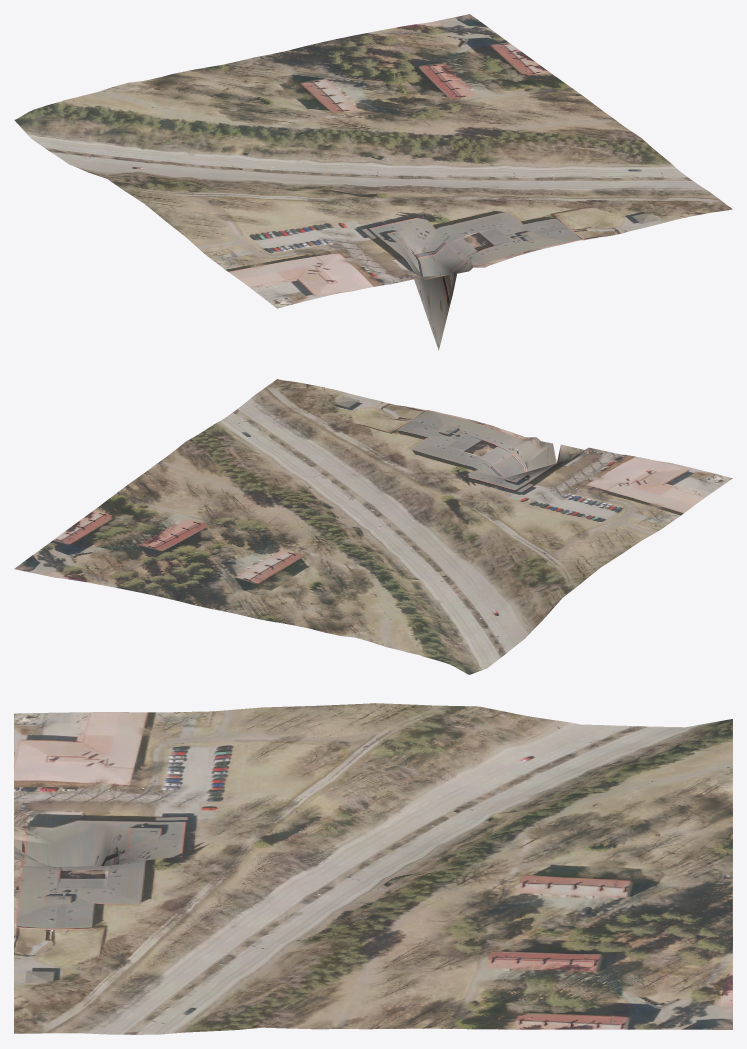
Rendered from CM_Terrain_24489844_6821022.fbx.
3 views of the same model, one above another, from view 1: azimuth 30°, elevation 25°; view 2: azimuth 150°, elevation 25°; view 3: azimuth 270°, elevation 25° (orthographic). The views are drawn at different scales.
Parts seen in each view (by area): view 1: CM_Terrain_24489844_6821022_LOD0; view 2: CM_Terrain_24489844_6821022_LOD0; view 3: CM_Terrain_24489844_6821022_LOD0.
Boxes of the visible parts, bbox=[...] form: CM_Terrain_24489844_6821022_LOD0: bbox=[14, 14, 732, 350]; CM_Terrain_24489844_6821022_LOD0: bbox=[14, 379, 732, 674]; CM_Terrain_24489844_6821022_LOD0: bbox=[14, 703, 732, 1034].
Size of what is drawn, in the model's own units: 205 by 44.45 by 205.
